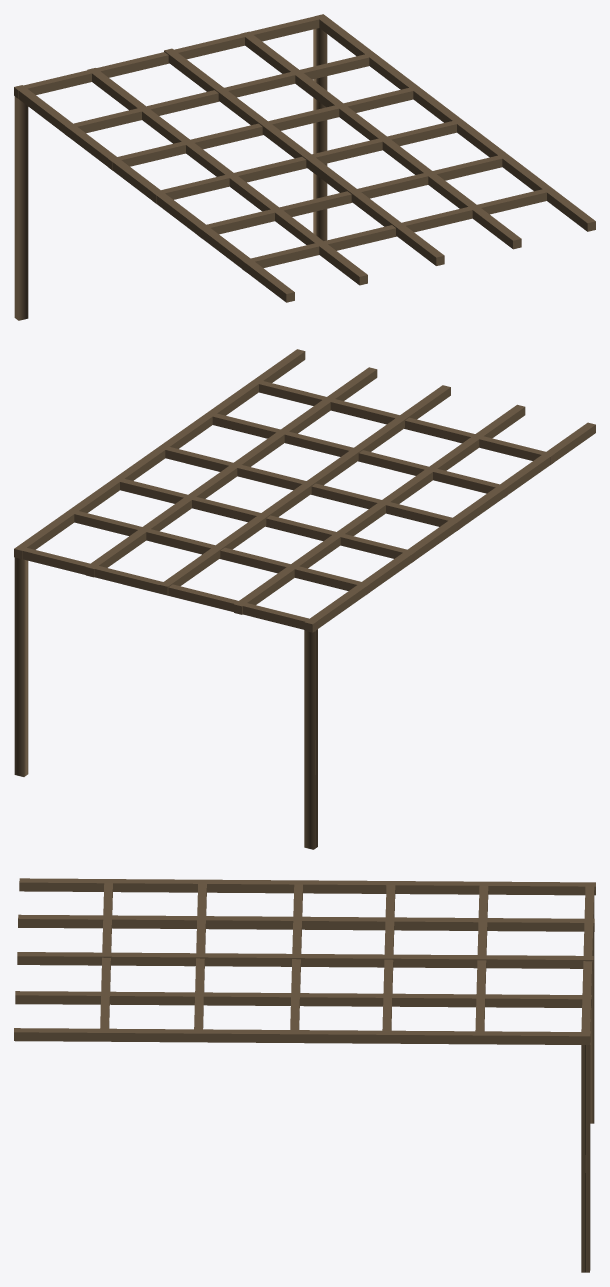
File: çıta002.fbx
The picture shows the model from 3 angles, top to bottom: view 1: azimuth 30°, elevation 25°; view 2: azimuth 150°, elevation 25°; view 3: azimuth 270°, elevation 25°; orthographic projection. The views are drawn at different scales.
Visible parts, largest first — view 1: Cube.077; view 2: Cube.077; view 3: Cube.077.
Boxes of the visible parts, x1,y1,x2,y2 form: Cube.077: (14,14,595,320); Cube.077: (14,349,595,849); Cube.077: (14,878,595,1272).
Size of the model in its own units: 1554 by 1091 by 2421.
